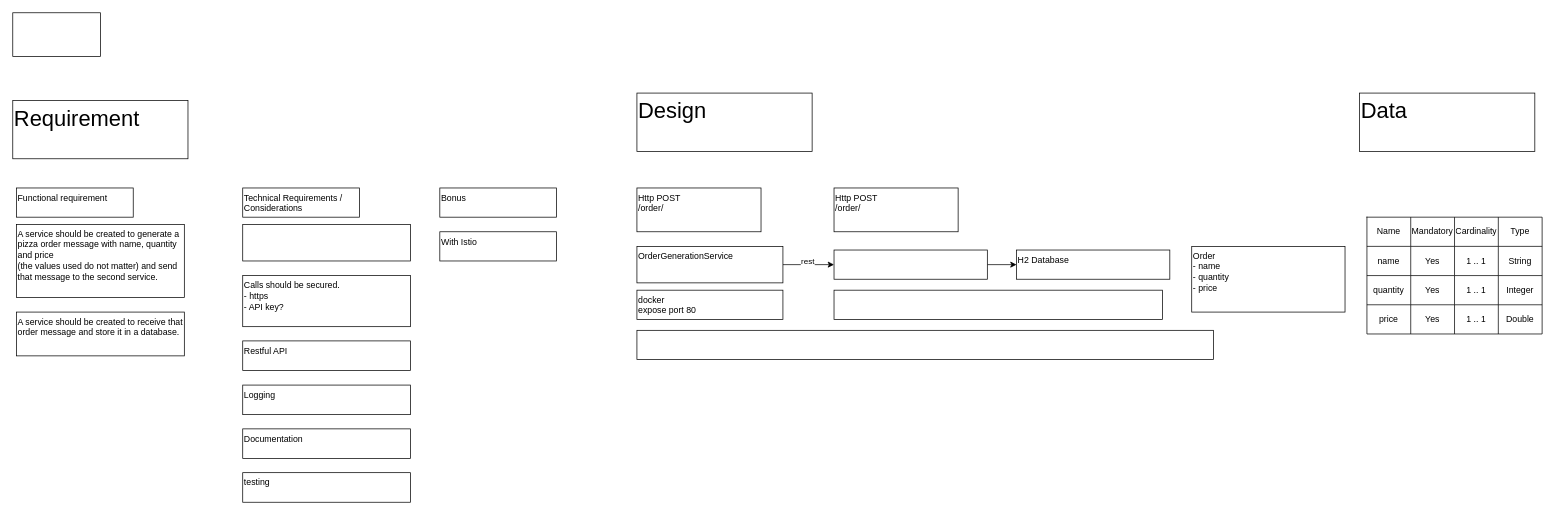
The diagram is 1555 pixels wide and 515 high, and some of its shapes have lost their labels. The shapes that lost their labels are listed below. From the top down, each one's centre as x and y in pixels, then its label:
At [56,34]: "Pizza joint - order pizza online".
At [326,242]: "The database does not need to be persistent, H2 can be used.".
At [910,264]: "OrderPersistenceService".
At [998,304]: "docker expose port 81".
At [925,345]: "docker compose with istio".
